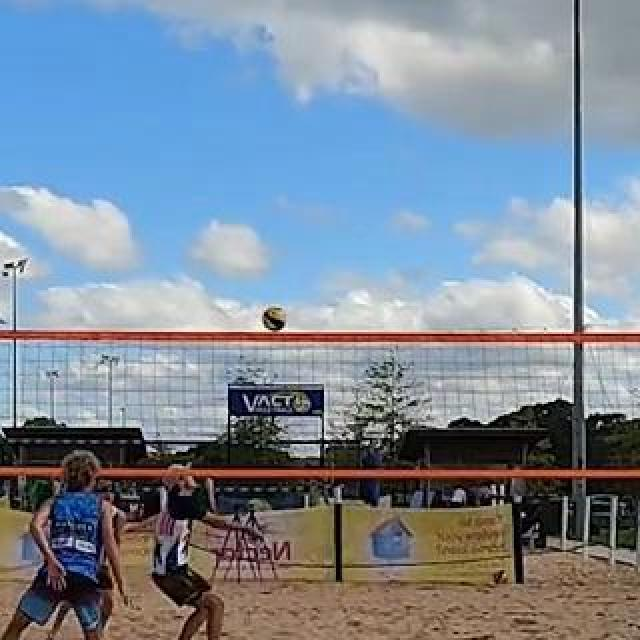volleyball: (264, 306, 288, 330), (493, 568, 509, 584)
